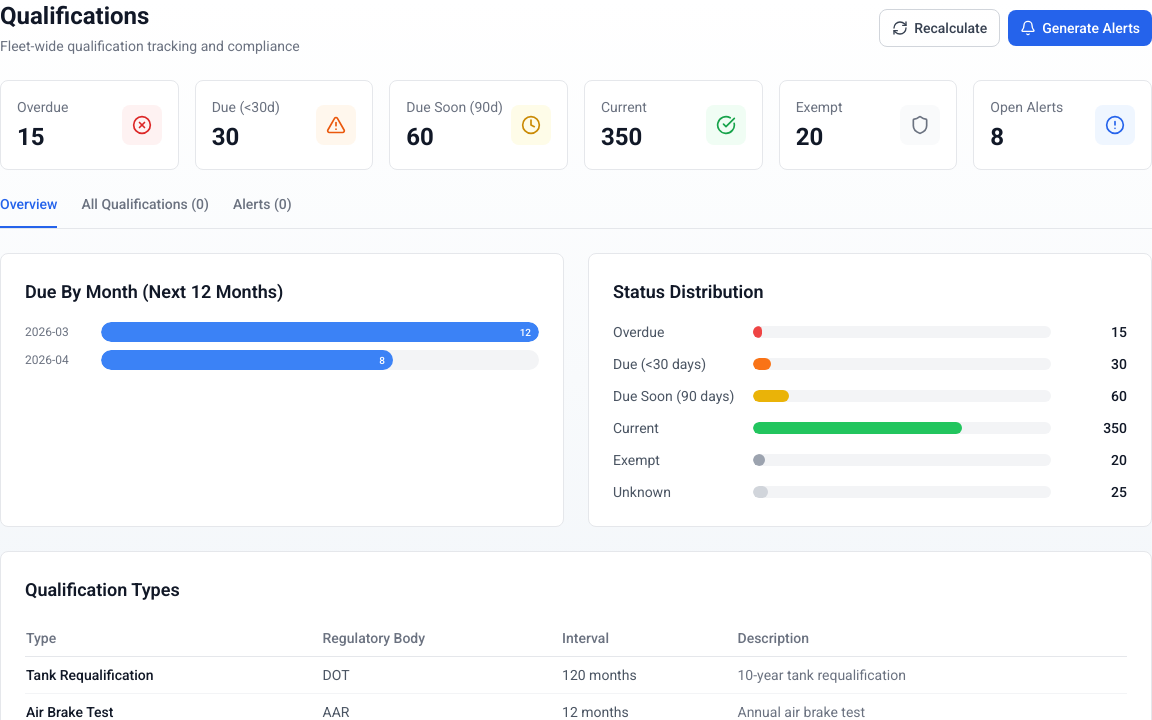
QualificationsPage › shows empty state when no qualifications
Step 1. Click the button "All Qualifications (0)" → (145, 211), box [82, 194, 209, 228]
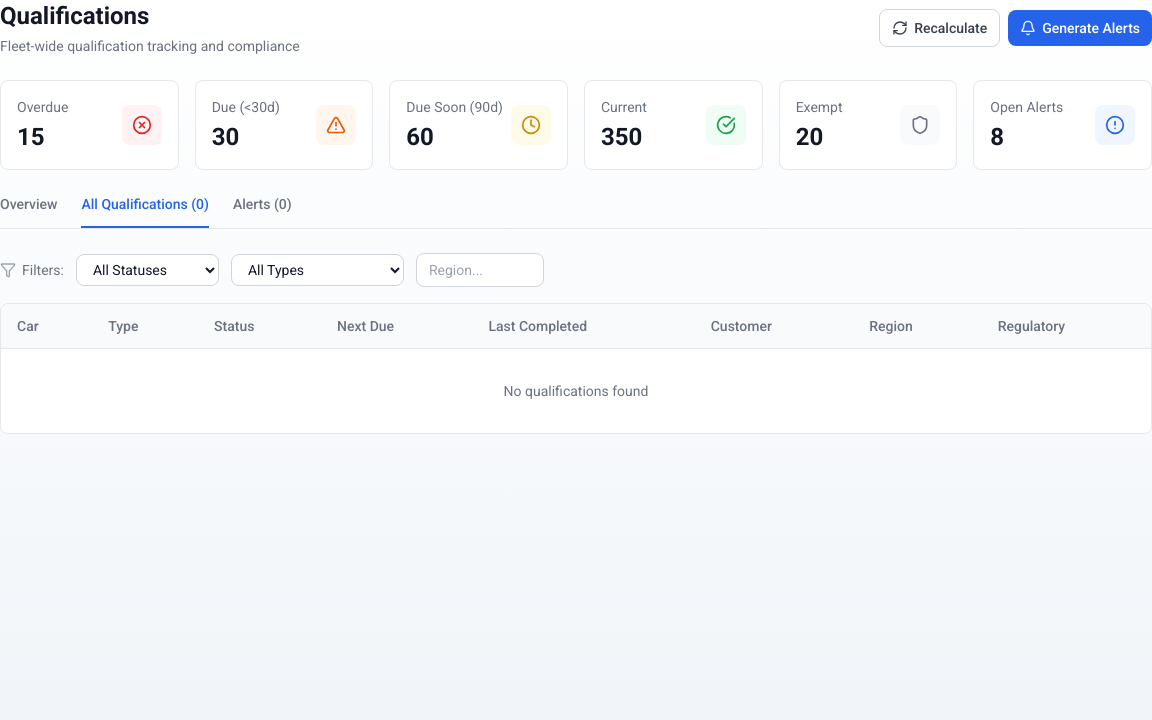
Result: the text "No qualifications found" is shown at [1, 348, 1151, 433]
